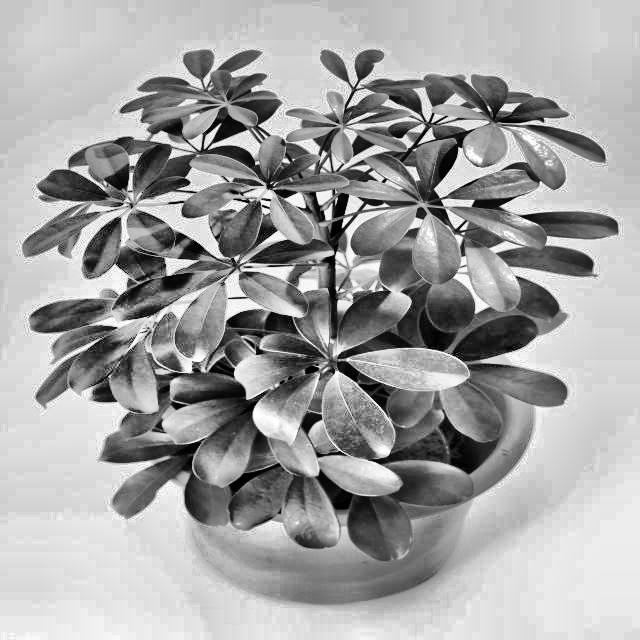plants: (26, 34, 585, 590)
